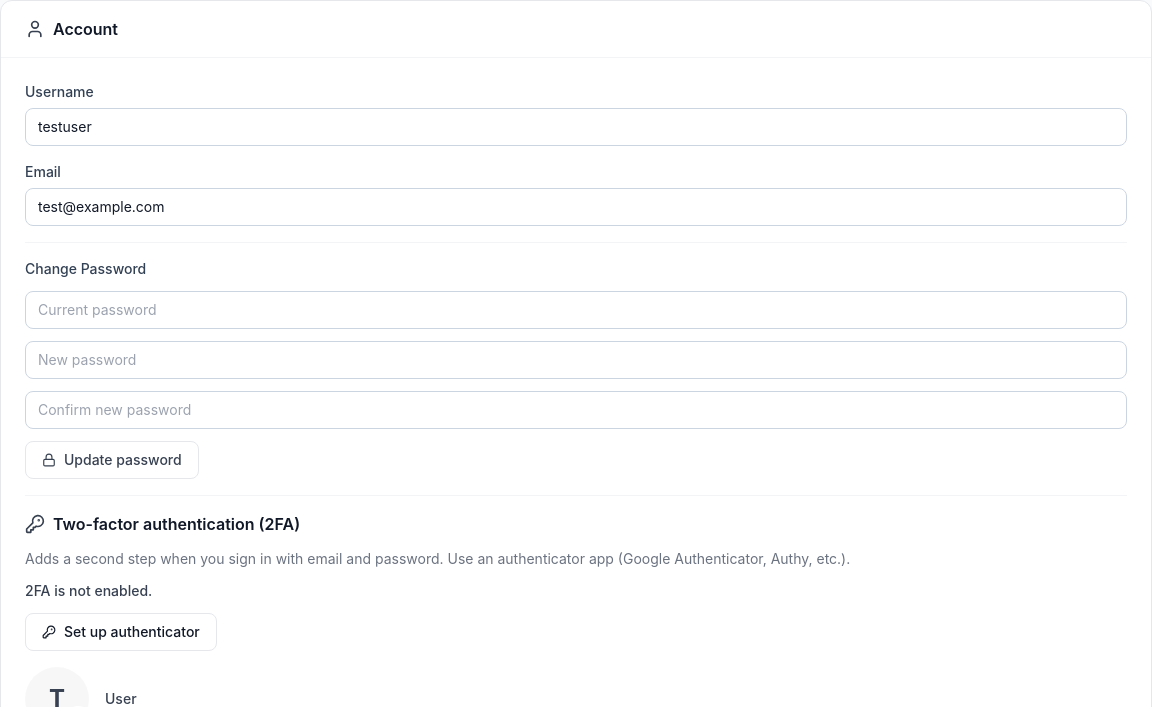
Test: AccountTab – Password change › FE-COMP-ACCOUNT-018: password too short shows error toast
The image size is (1152, 707).
Type "currentpass" into the password field with placeholder "Current password" at (576, 310), box [25,291,1127,329]
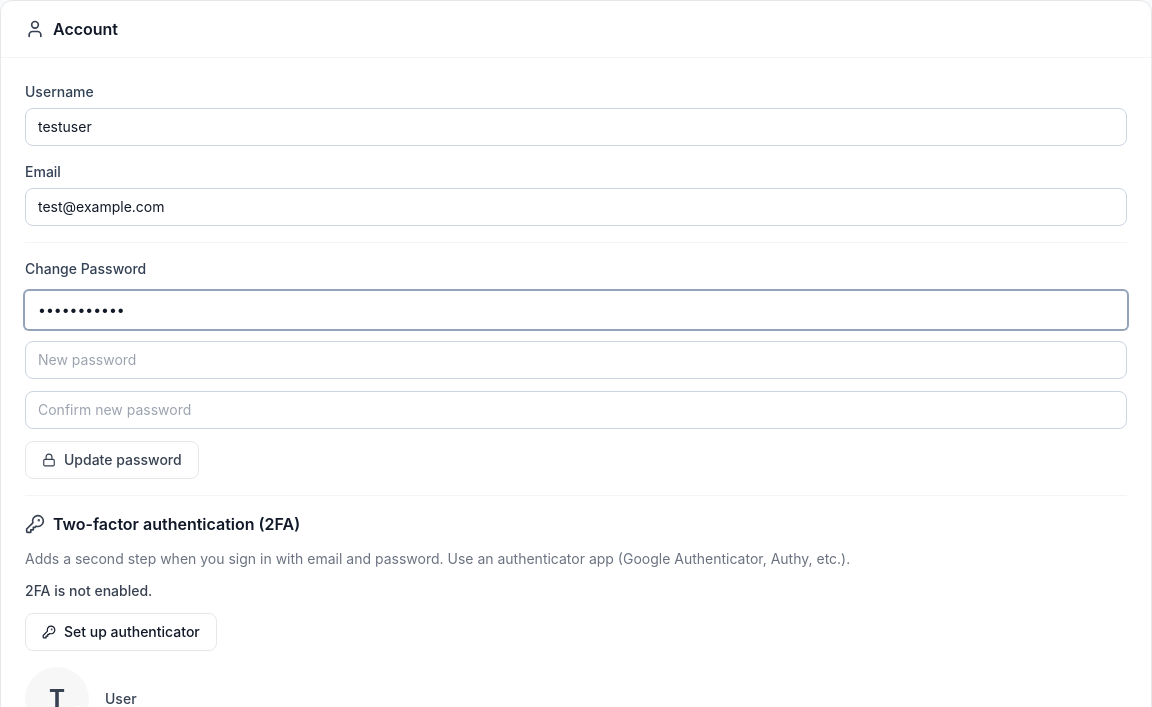
Type "short" into the password field with placeholder "New password" at (576, 360), box [25,341,1127,379]
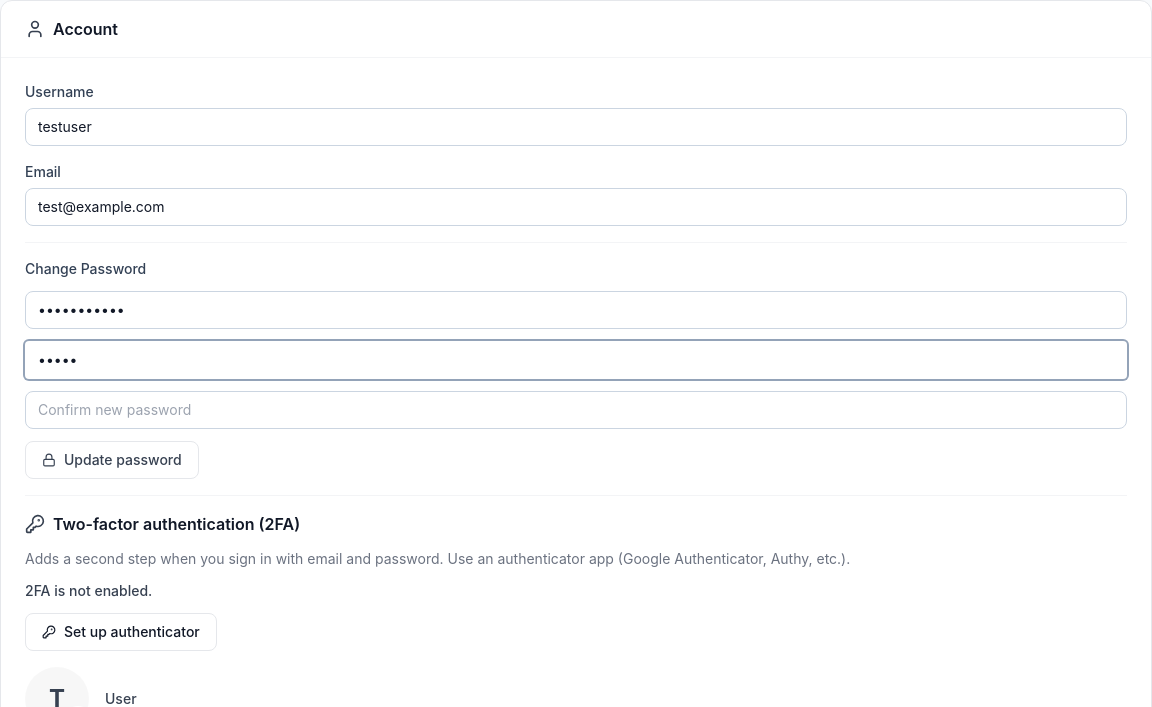
Type "short" into the password field with placeholder "Confirm new password" at (576, 410), box [25,391,1127,429]
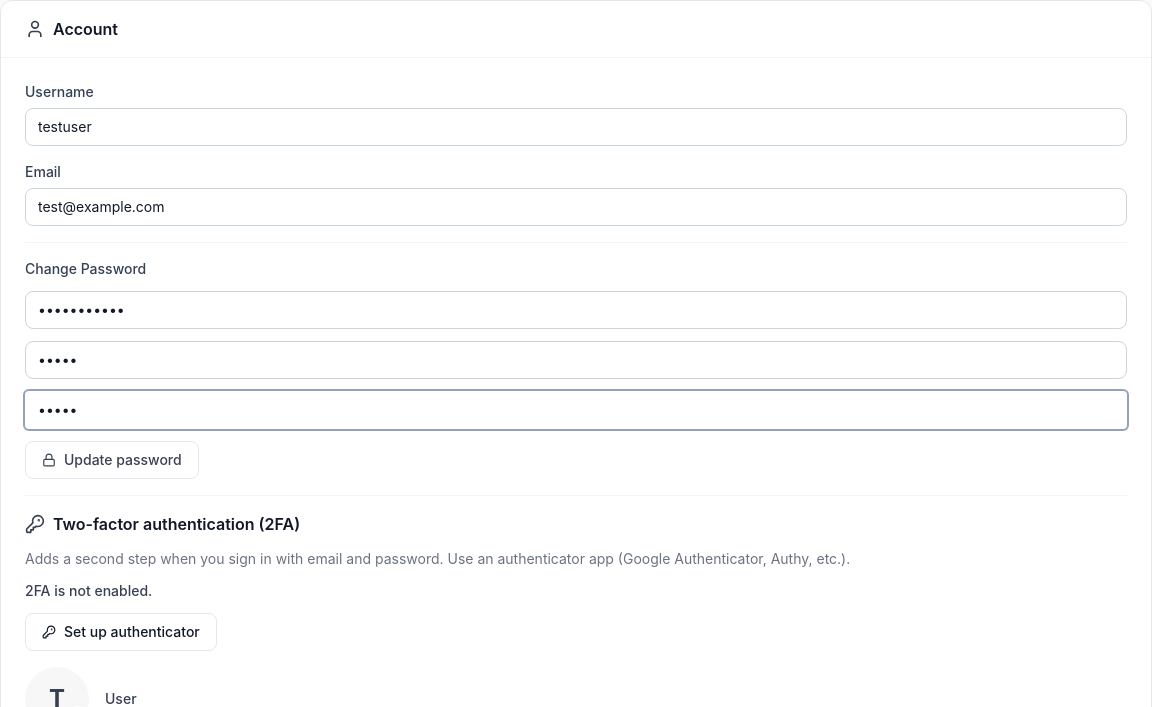
Click the button "Update password" at (112, 460), box [25,441,199,479]
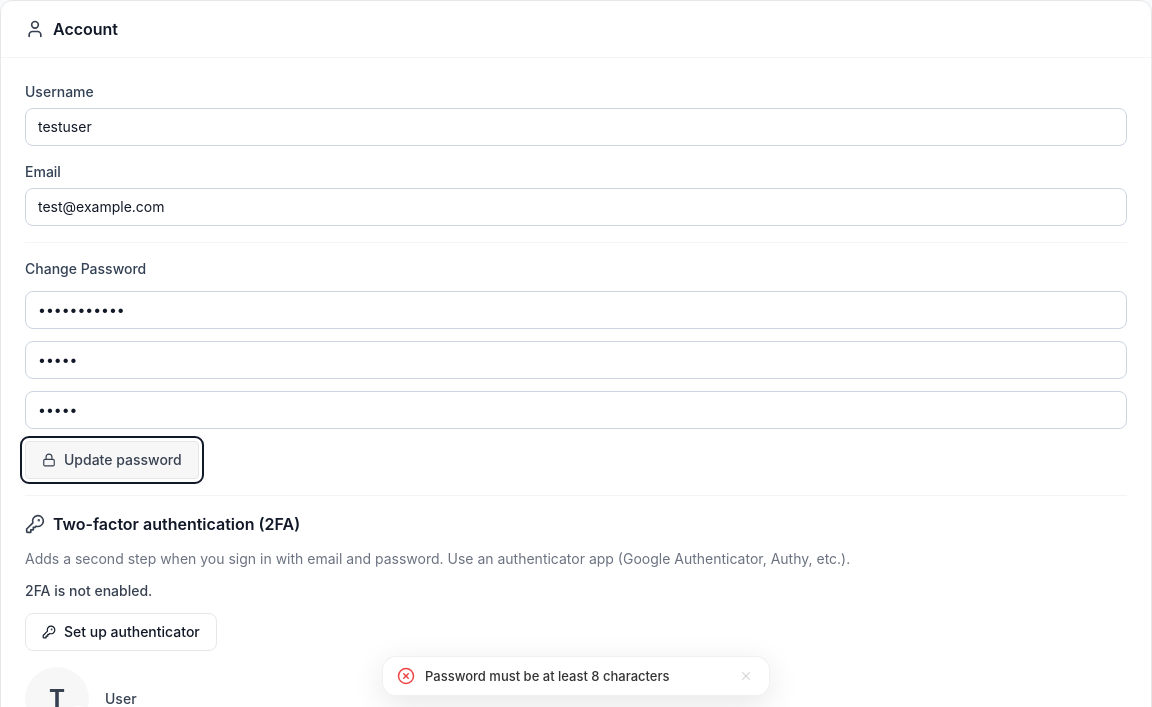
Result: the text "Password must be at least 8 characters" is shown at [425,668,670,684]
